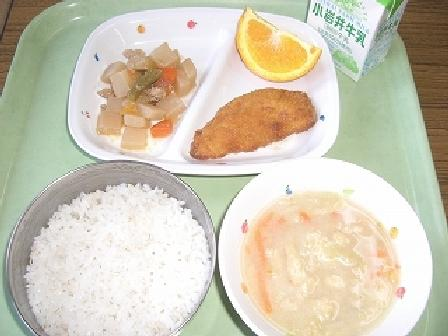Citrus: (228, 11, 323, 87)
Milk: (308, 1, 412, 75)
Rice: (14, 165, 207, 333)
Soups: (227, 170, 426, 329)
cutlet: (195, 90, 315, 169)
vegetable based cooked food: (91, 35, 198, 146)
